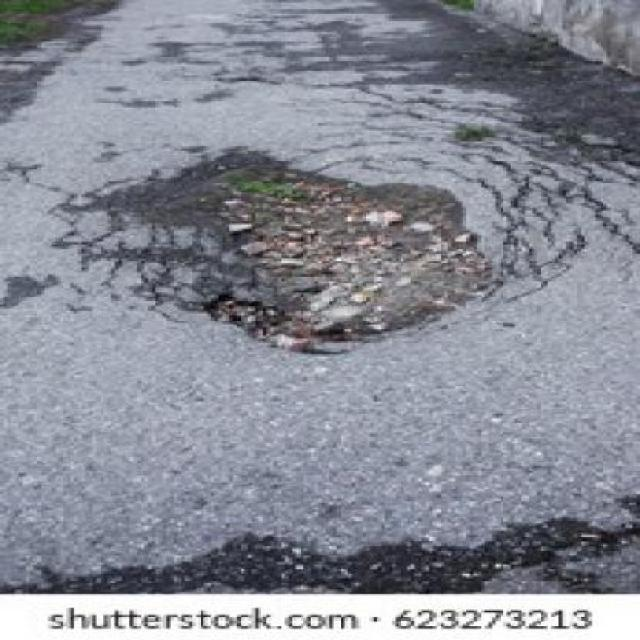pothole: (115, 116, 562, 362)
